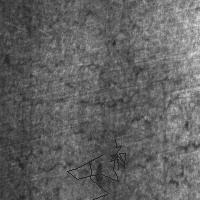crazing: (17, 58, 177, 161), (67, 139, 125, 199)
